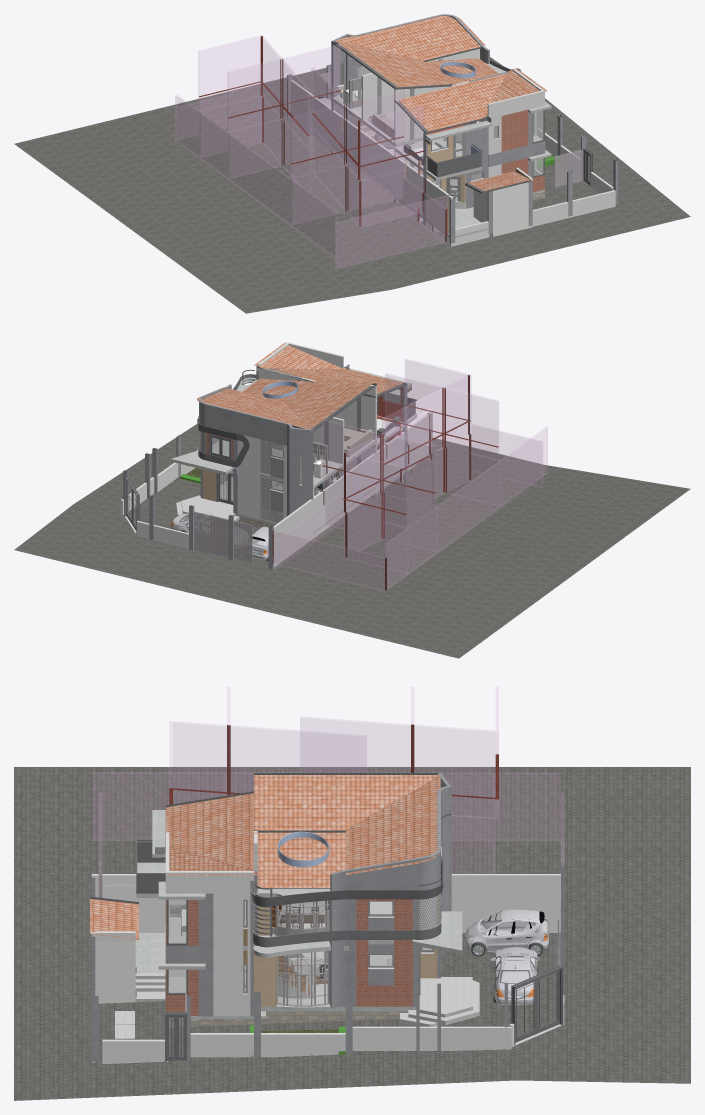
File: 2spaceship.glb
The picture shows the model from 3 angles, top to bottom: view 1: azimuth 30°, elevation 25°; view 2: azimuth 150°, elevation 25°; view 3: azimuth 270°, elevation 25°; orthographic projection. The views are drawn at different scales.
Parts seen in each view (by area): view 1: Sol - Pavés en pierre 02, Volume - Zone 01, Toit - Tuiles espagnoles, Enduit - Blanc nature, Enduit - Plâtre, Enduit - Crépis, Béton - Lissé, Bois - Acajou vertical, Peinture - Beige or, Bois - Pin granuleux horizontal, Peinture - Bleu cobalt, Brique - Appareil américain (+7 smaller); view 2: Sol - Pavés en pierre 02, Volume - Zone 01, Enduit - Blanc nature, Toit - Tuiles espagnoles, Enduit - Crépis, Bois - Acajou vertical, Béton - Lissé, Métal - Grille, Bois - Pin granuleux horizontal, Peinture - Beige or, Peinture - Bleu cobalt, Métal - Plaque perforée (+10 smaller); view 3: Sol - Pavés en pierre 02, Volume - Zone 01, Toit - Tuiles espagnoles, Enduit - Blanc nature, Enduit - Plâtre, Enduit - Crépis, Béton - Lissé, Brique - Appareil américain, Métal - Acier inoxydable, Bois - Pin granuleux horizontal, Carrelage - Blanc mat 30x30, Env. - Asphalte clair (+11 smaller).
Boxes of the visible parts, x1=… form: Sol - Pavés en pierre 02: x1=14, y1=57, x2=690, y2=313; Volume - Zone 01: x1=174, y1=35, x2=449, y2=268; Toit - Tuiles espagnoles: x1=335, y1=16, x2=547, y2=191; Enduit - Blanc nature: x1=290, y1=69, x2=615, y2=246; Enduit - Plâtre: x1=363, y1=49, x2=612, y2=236; Enduit - Crépis: x1=333, y1=54, x2=545, y2=243; Béton - Lissé: x1=331, y1=63, x2=551, y2=237; Bois - Acajou vertical: x1=199, y1=36, x2=448, y2=241; Peinture - Beige or: x1=331, y1=14, x2=489, y2=207; Bois - Pin granuleux horizontal: x1=331, y1=41, x2=592, y2=193; Peinture - Bleu cobalt: x1=287, y1=64, x2=617, y2=234; Brique - Appareil américain: x1=501, y1=109, x2=544, y2=192; Sol - Pavés en pierre 02: x1=14, y1=423, x2=690, y2=658; Volume - Zone 01: x1=267, y1=359, x2=547, y2=590; Enduit - Blanc nature: x1=121, y1=342, x2=432, y2=567; Toit - Tuiles espagnoles: x1=197, y1=342, x2=403, y2=429; Enduit - Crépis: x1=199, y1=364, x2=432, y2=542; Bois - Acajou vertical: x1=272, y1=375, x2=498, y2=590; Béton - Lissé: x1=171, y1=368, x2=430, y2=533; Métal - Grille: x1=194, y1=511, x2=252, y2=563; Bois - Pin granuleux horizontal: x1=124, y1=365, x2=407, y2=534; Peinture - Beige or: x1=199, y1=384, x2=313, y2=522; Peinture - Bleu cobalt: x1=123, y1=435, x2=273, y2=570; Métal - Plaque perforée: x1=199, y1=431, x2=283, y2=523; Sol - Pavés en pierre 02: x1=14, y1=767, x2=690, y2=1100; Volume - Zone 01: x1=92, y1=687, x2=563, y2=933; Toit - Tuiles espagnoles: x1=90, y1=775, x2=440, y2=939; Enduit - Blanc nature: x1=91, y1=831, x2=564, y2=1063; Enduit - Plâtre: x1=91, y1=875, x2=560, y2=1061; Enduit - Crépis: x1=91, y1=787, x2=451, y2=1016; Béton - Lissé: x1=103, y1=810, x2=479, y2=1039; Brique - Appareil américain: x1=165, y1=899, x2=412, y2=1016; Métal - Acier inoxydable: x1=136, y1=846, x2=548, y2=1005; Bois - Pin granuleux horizontal: x1=90, y1=773, x2=563, y2=1061; Carrelage - Blanc mat 30x30: x1=115, y1=923, x2=479, y2=1038; Env. - Asphalte clair: x1=251, y1=858, x2=443, y2=961.
Size of the model in its own units: 31.88 by 9.2 by 28.78.
Materials: 57 (33 with a texture image).
